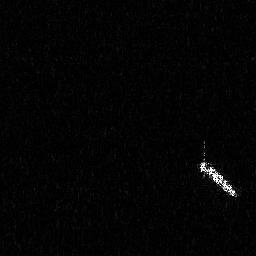ship: (197, 139, 240, 199)
